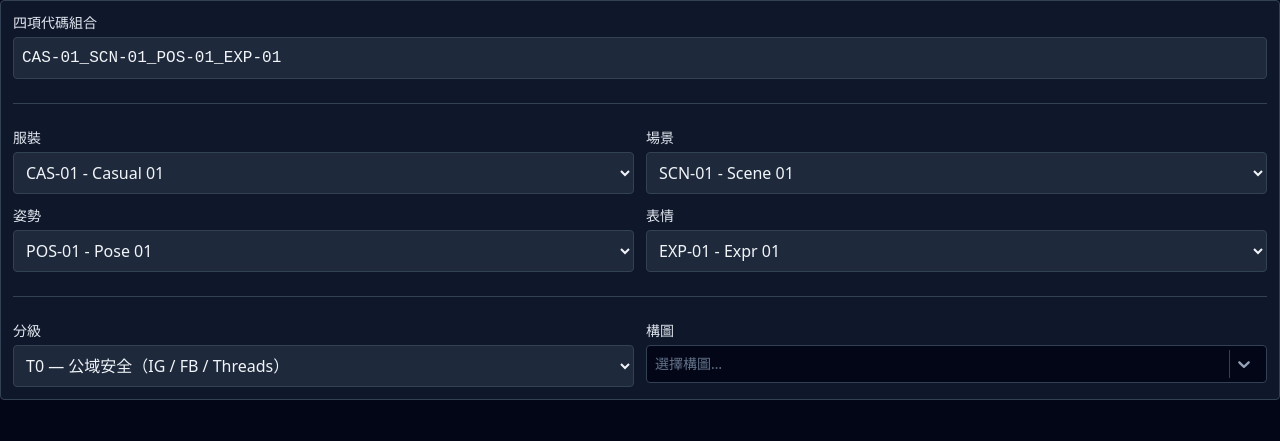
Test case: OrderInput › Given default props › When invalid codes are entered › keeps invalid input visible after blur so the user can correct it
Type "XXX-99_SCN-01_POS-01_EXP-01" into the field labelled "四項代碼組合" at (640, 58), box x1=13 y1=37 x2=1267 y2=79
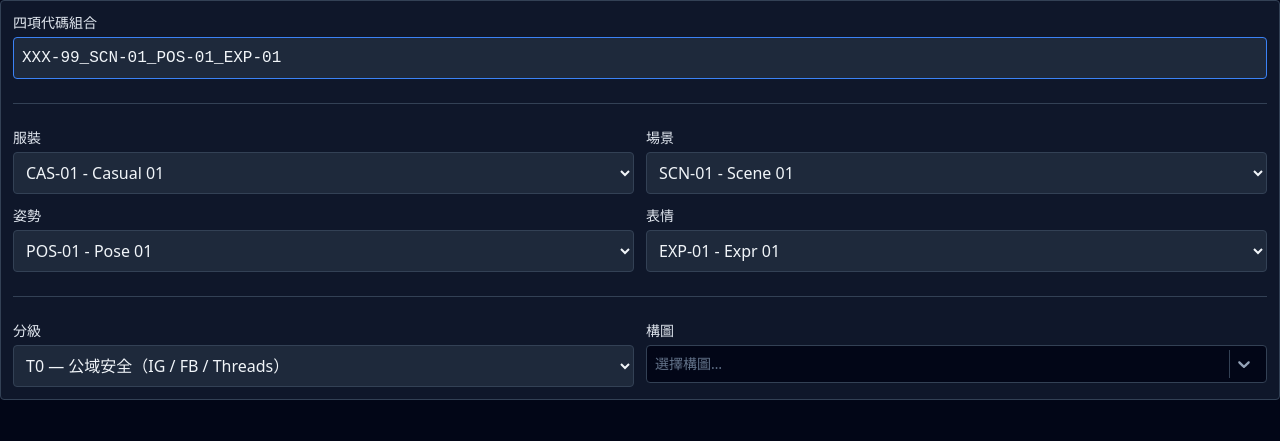
Press Tab
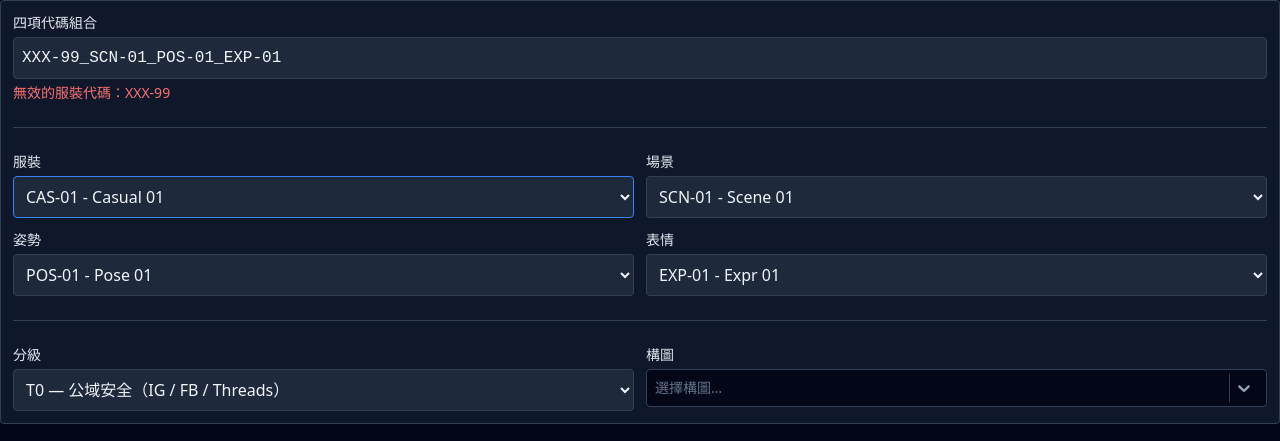
Expected: the message shows "服裝", x1=13 y1=83 x2=170 y2=102
